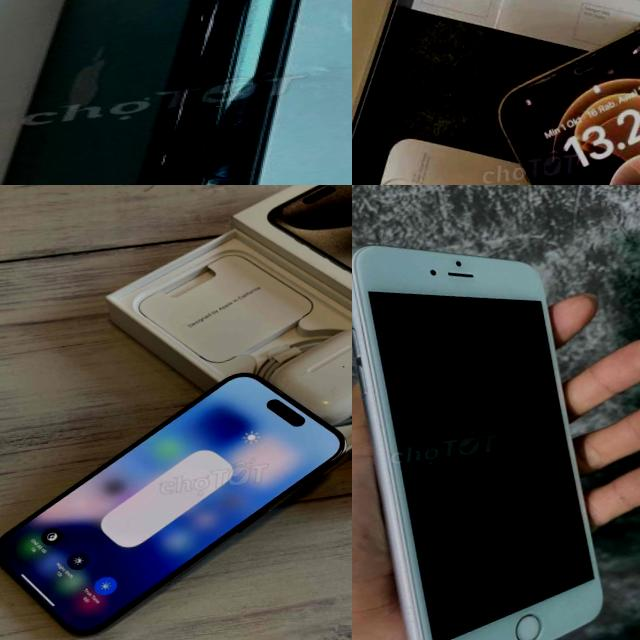physical_damage: (514, 56, 586, 98)
scratch: (0, 0, 352, 185), (352, 243, 373, 279)
